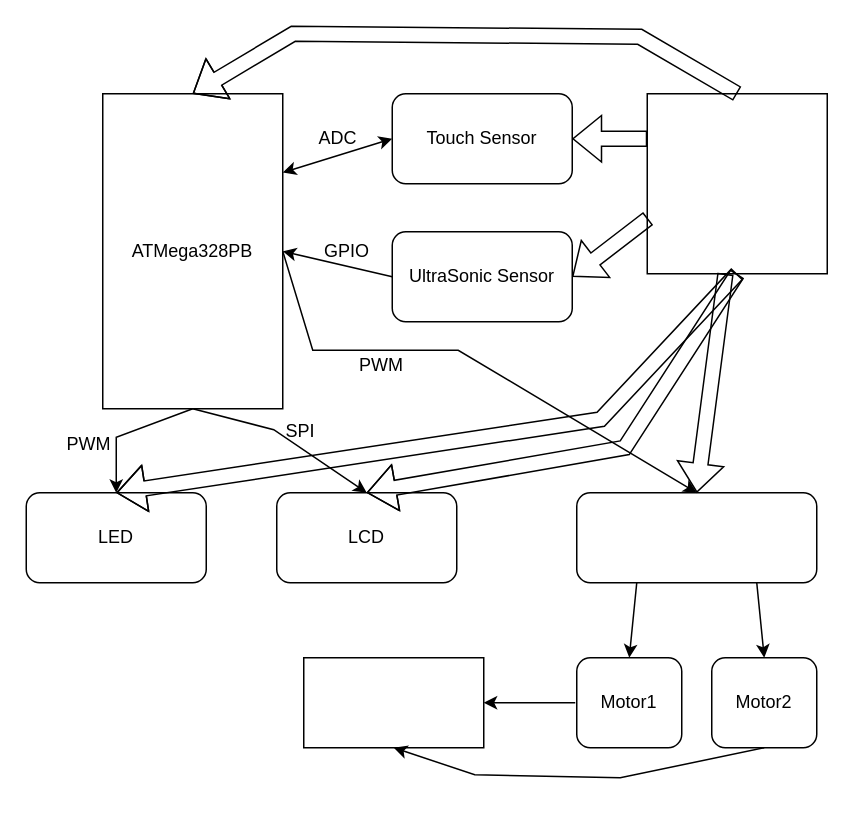
The diagram is 854 pixels wide and 818 high, and some of its shapes have lost their labels. Each missing label, with the centre of its shape:
Motor Control: the point at 696,537
Power Management: the point at 736,183
Robotic Arm: the point at 393,702
